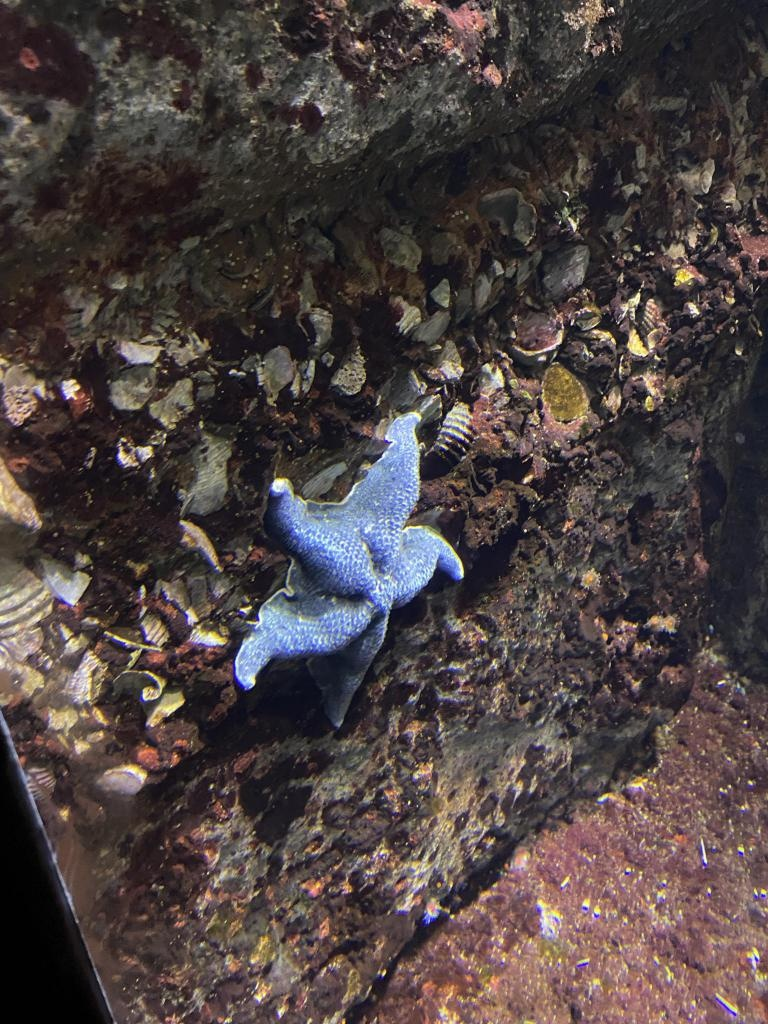starfish: (234, 410, 466, 730)
